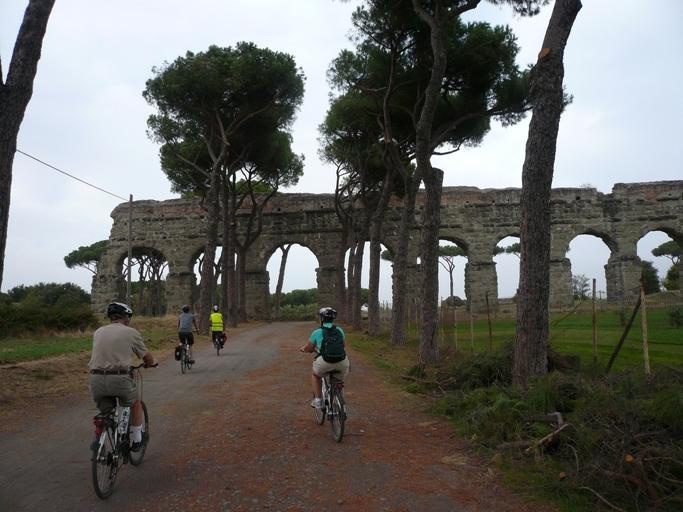non-vehicle: (90, 362, 157, 500), (301, 347, 347, 442), (179, 329, 199, 373), (207, 323, 223, 355)
